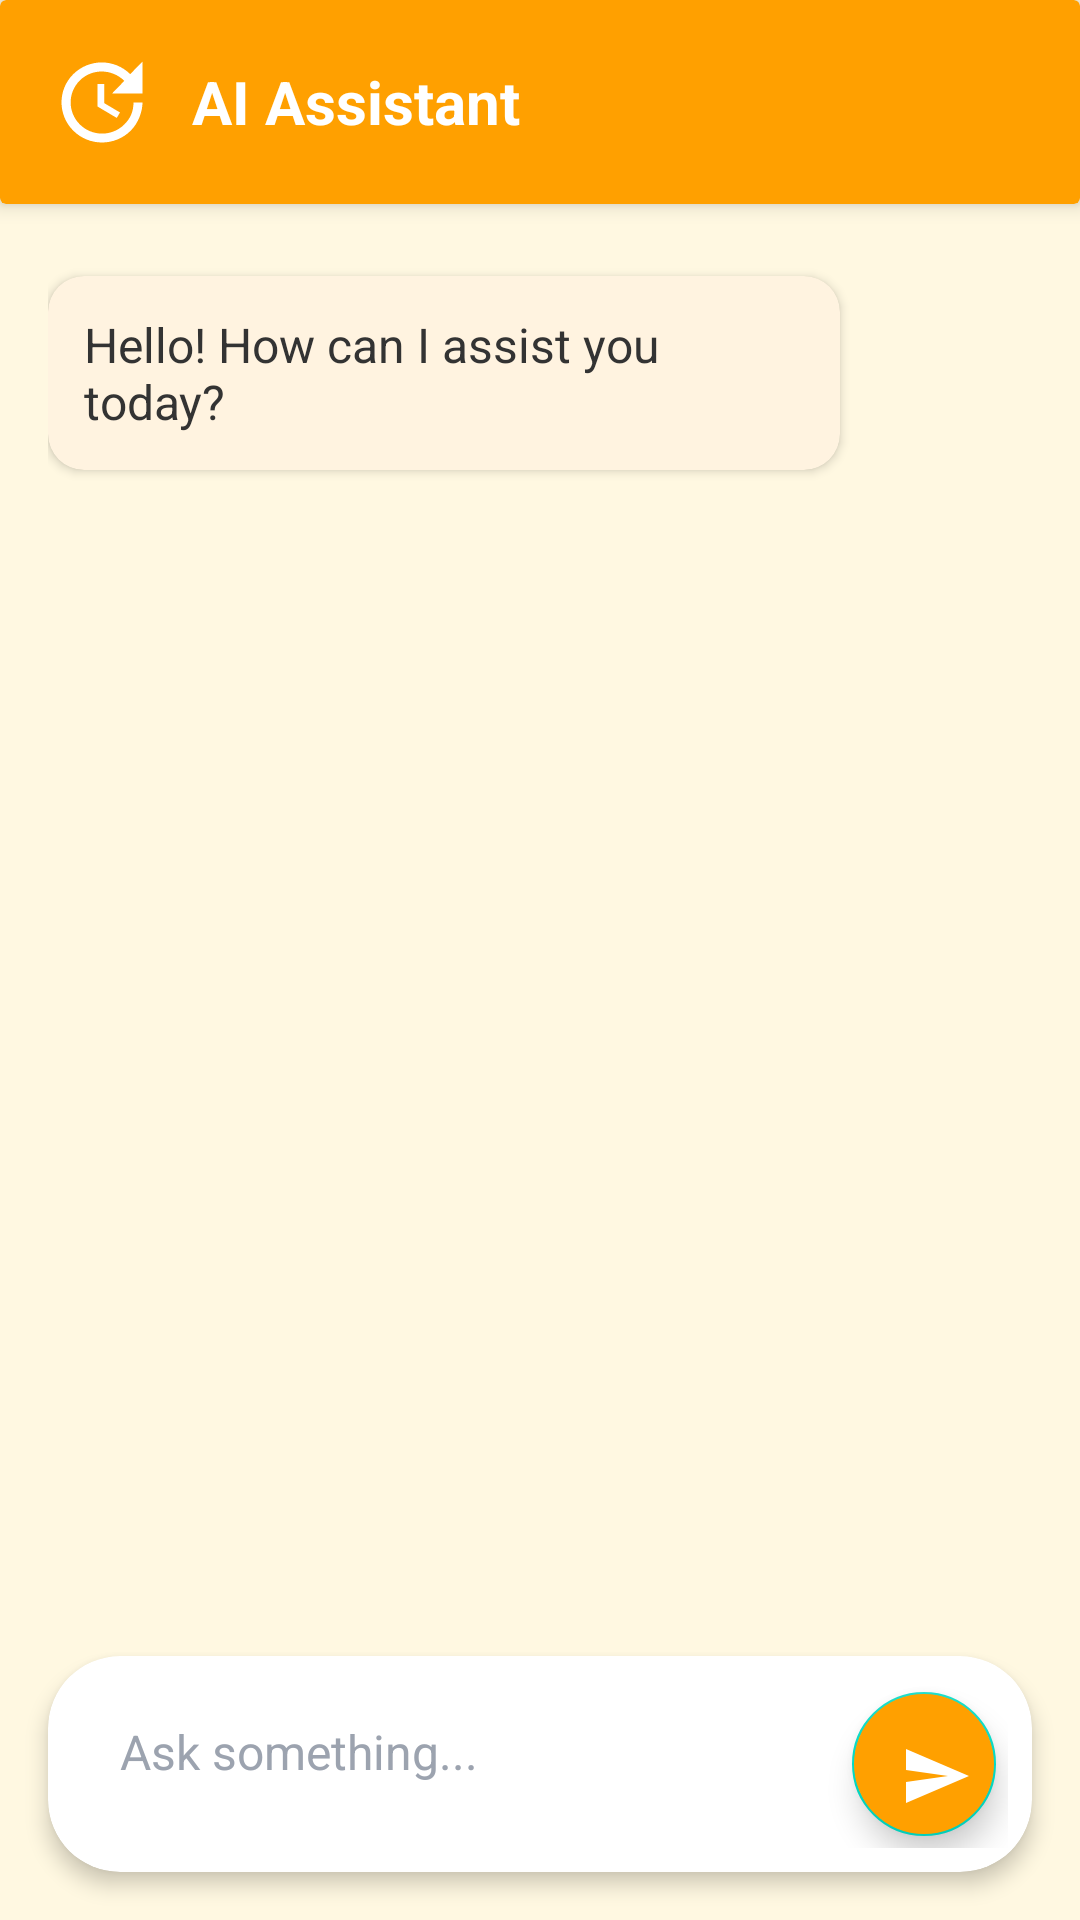

Icon bounding boxes for this 1080*1920 phone screenshot, format (x1, y1, x2, y2):
Send: (852, 1692, 996, 1836)
